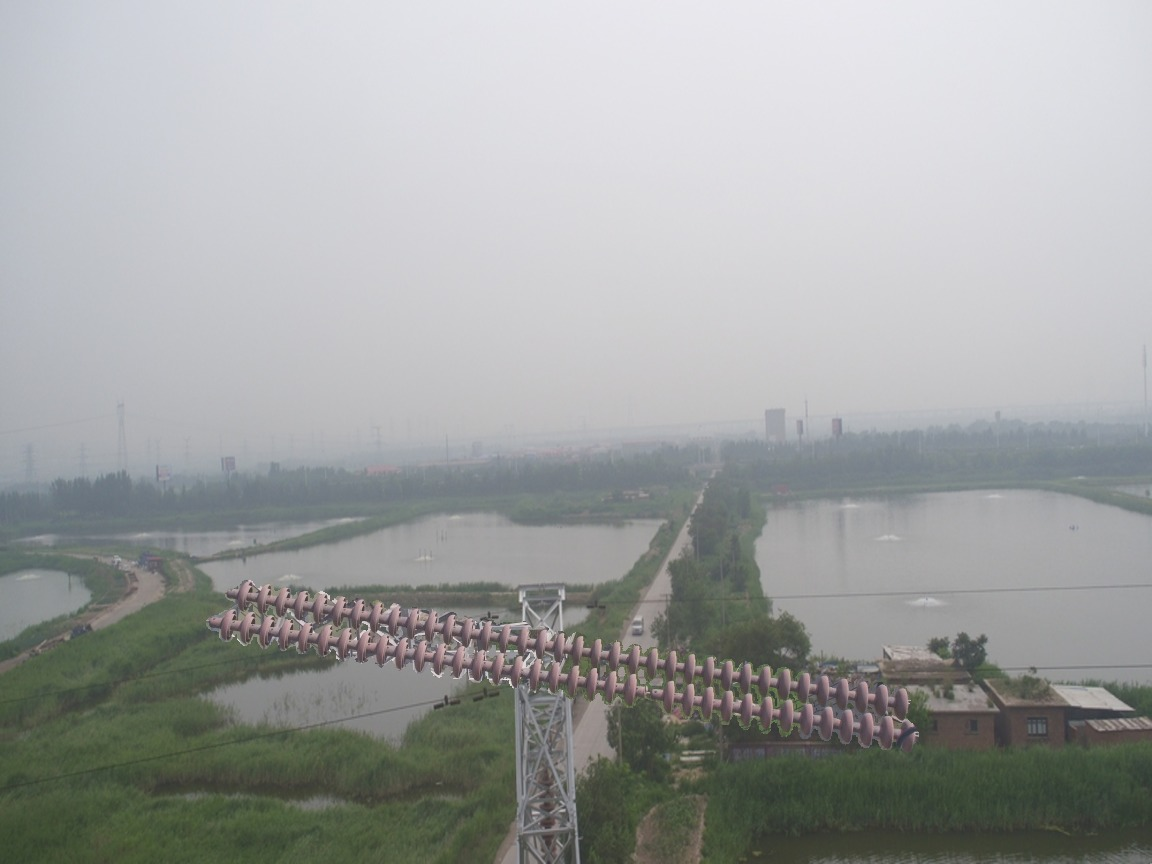defect: (617, 668, 681, 712)
